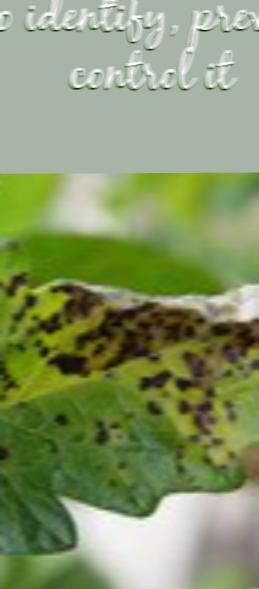Tomato Septoria leaf spot: (0, 232, 259, 561)
